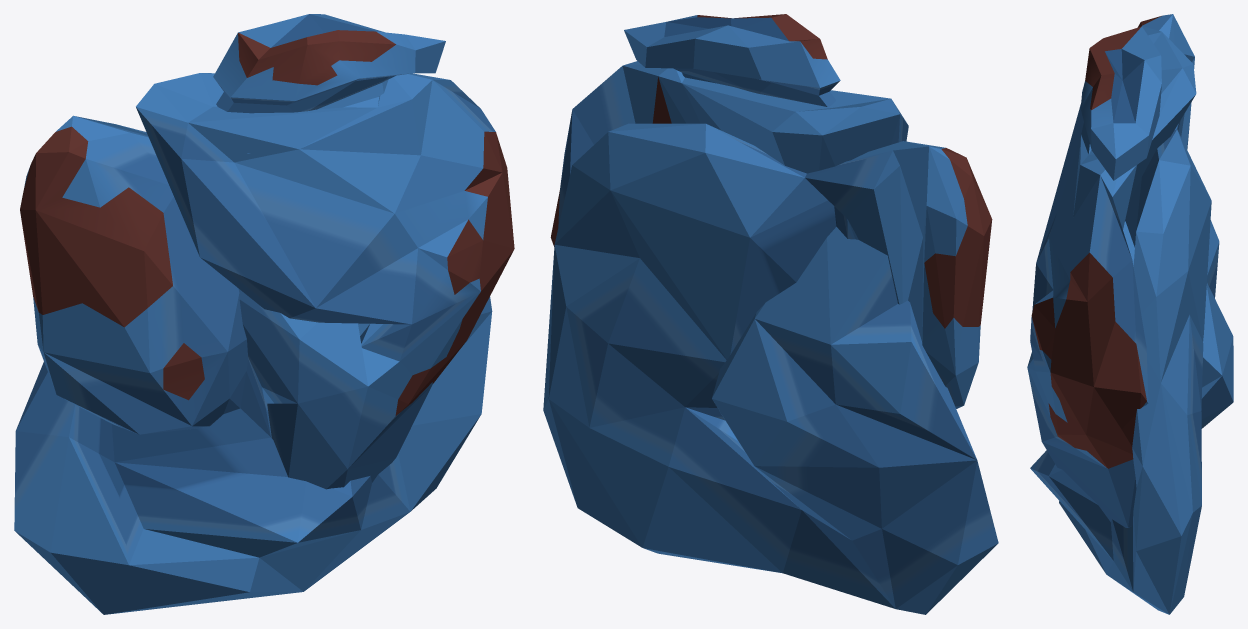
The model's file is SM_Prop_Evidence_Bag_03_Insert_01.fbx.
3 renders of one model, left to right at view 1: azimuth 30°, elevation 25°; view 2: azimuth 150°, elevation 25°; view 3: azimuth 270°, elevation 25°, orthographic. The views are drawn at different scales.
Visible parts, largest first — view 1: SM_Prop_Evidence_Bag_03_Insert_01; view 2: SM_Prop_Evidence_Bag_03_Insert_01; view 3: SM_Prop_Evidence_Bag_03_Insert_01.
Boxes of the visible parts, <box> form: SM_Prop_Evidence_Bag_03_Insert_01: <box>14,14,514,614</box>; SM_Prop_Evidence_Bag_03_Insert_01: <box>543,14,998,614</box>; SM_Prop_Evidence_Bag_03_Insert_01: <box>1027,14,1233,614</box>.
Size of the model in its own units: 27.15 by 30.82 by 10.95.
